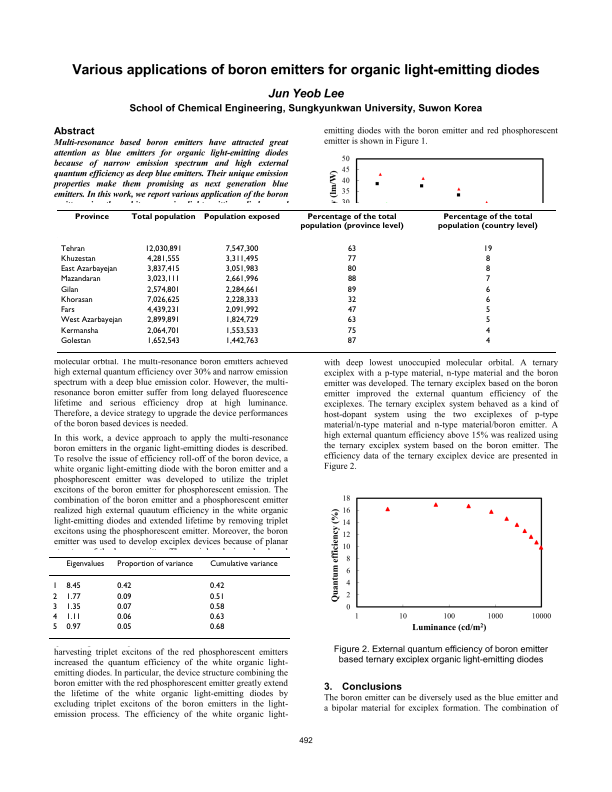borderless: (56, 208, 556, 352), (48, 555, 290, 639)
cell: (299, 213, 404, 231), (437, 213, 538, 231), (116, 559, 193, 569), (203, 213, 280, 222), (209, 559, 278, 569), (130, 213, 196, 222), (59, 316, 123, 325), (59, 265, 118, 274), (65, 559, 105, 569), (59, 326, 99, 336), (144, 244, 182, 254), (59, 275, 101, 284), (59, 254, 96, 264), (224, 244, 259, 254), (224, 254, 259, 264), (224, 285, 259, 295), (224, 295, 259, 305), (224, 326, 259, 336), (224, 336, 259, 346), (146, 254, 180, 264), (146, 285, 180, 295), (59, 295, 93, 305), (146, 295, 180, 305), (146, 326, 180, 336), (146, 336, 180, 346), (59, 336, 91, 346), (74, 213, 109, 222), (224, 265, 259, 274), (224, 275, 259, 284), (224, 306, 259, 315), (224, 316, 259, 325), (146, 265, 180, 274), (146, 275, 180, 284), (146, 306, 180, 315), (146, 316, 180, 325), (59, 244, 85, 254), (59, 285, 79, 295), (65, 592, 81, 602), (116, 592, 132, 602), (209, 592, 225, 602), (65, 602, 81, 612), (116, 602, 132, 612), (209, 602, 225, 612), (65, 612, 81, 622), (116, 612, 132, 622), (209, 612, 225, 622), (65, 582, 81, 591), (116, 582, 132, 591), (209, 582, 225, 591), (65, 623, 81, 632), (116, 623, 132, 632), (209, 623, 225, 632), (59, 306, 75, 315), (346, 244, 357, 254), (482, 244, 493, 254), (346, 254, 357, 264), (346, 285, 357, 295), (346, 295, 357, 305), (346, 326, 357, 336), (346, 336, 357, 346), (346, 265, 357, 274), (346, 275, 357, 284), (346, 306, 357, 315), (346, 316, 357, 325), (51, 592, 58, 602), (51, 602, 58, 612), (51, 612, 58, 622), (484, 295, 491, 305), (484, 336, 491, 346), (51, 582, 58, 591), (51, 623, 58, 632), (484, 265, 491, 274), (484, 275, 491, 284), (484, 306, 491, 315), (484, 316, 491, 325), (484, 254, 490, 264), (484, 285, 490, 295), (484, 326, 490, 336)
